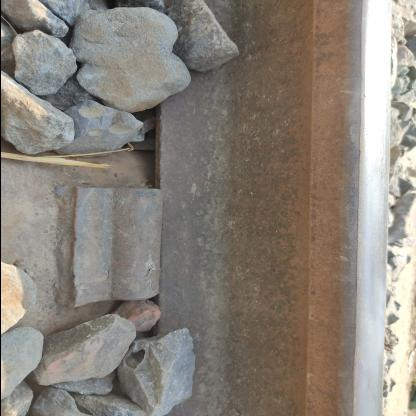Defective: (36, 164, 189, 348)
